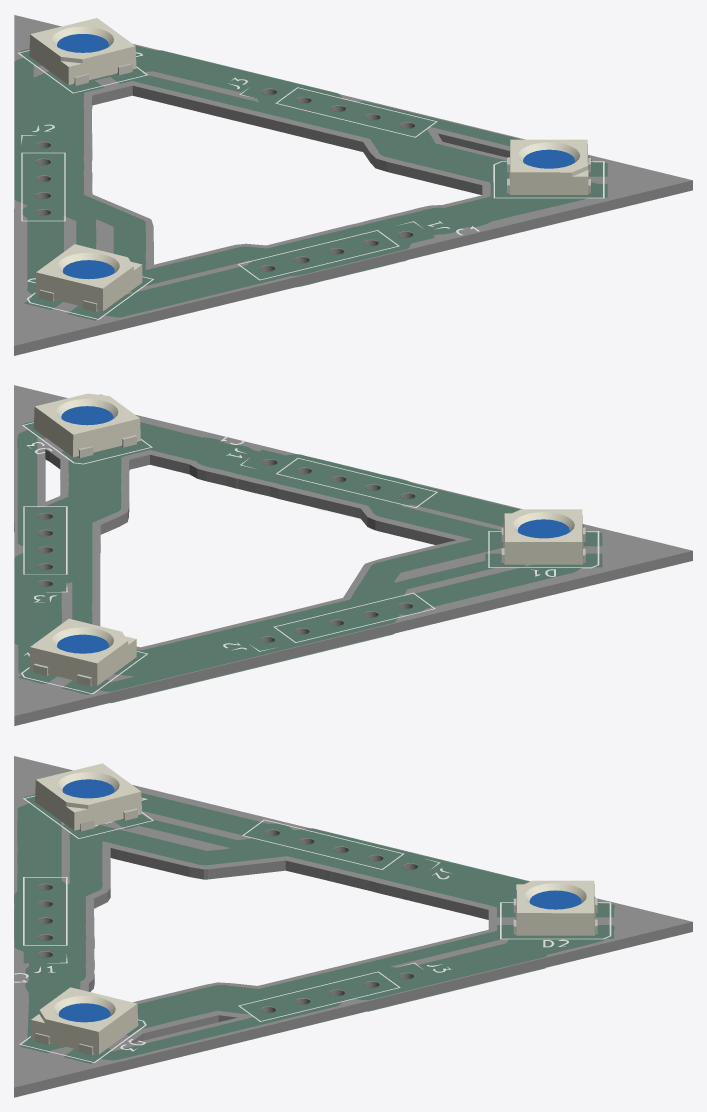
The picture shows the model from 3 angles, top to bottom: view 1: azimuth 30°, elevation 25°; view 2: azimuth 150°, elevation 25°; view 3: azimuth 270°, elevation 25°; orthographic projection.
Visible parts, largest first — view 1: =>[0:1:1:5], =>[0:1:1:4], D2, D1, D3, =>[0:1:1:3]; view 2: =>[0:1:1:5], =>[0:1:1:4], D2, D3, D1, =>[0:1:1:3]; view 3: =>[0:1:1:5], =>[0:1:1:4], D1, D3, D2, =>[0:1:1:3].
Boxes of the visible parts, x1,y1,x2,y2 form: =>[0:1:1:5]: (14,15,692,355); =>[0:1:1:4]: (14,45,607,320); D2: (29,18,136,85); D1: (35,244,142,311); D3: (507,139,590,194); =>[0:1:1:3]: (18,50,604,319); =>[0:1:1:5]: (14,385,692,725); =>[0:1:1:4]: (14,421,602,703); D2: (29,618,136,686); D3: (33,393,140,457); D1: (501,509,585,564); =>[0:1:1:3]: (21,422,599,694); =>[0:1:1:5]: (14,756,692,1097); =>[0:1:1:4]: (14,793,614,1063); D1: (35,763,141,831); D3: (31,987,138,1055); D2: (513,880,597,935); =>[0:1:1:3]: (14,795,611,1062).
Size of the model in its own units: 0.05 by 0.00257 by 0.0433.
